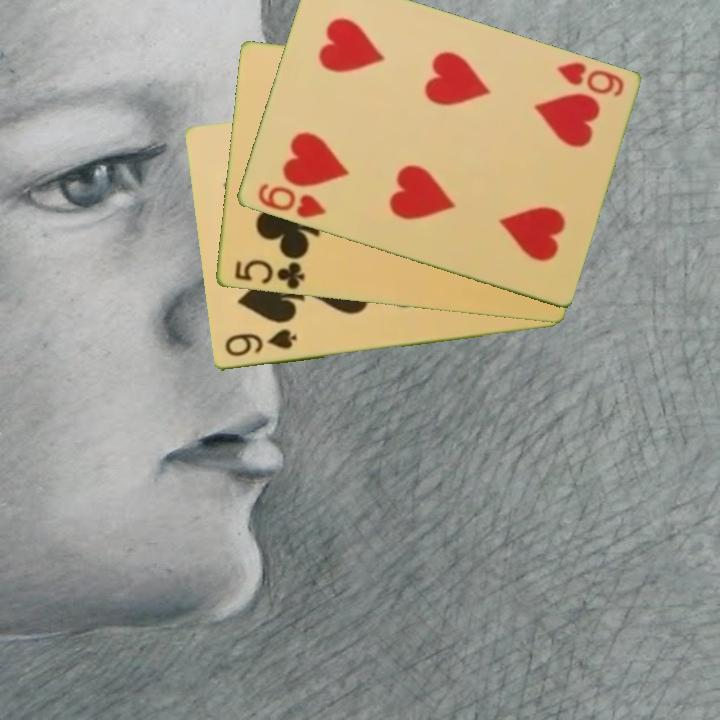5c: (230, 256, 307, 292)
6h: (253, 180, 328, 222), (553, 58, 627, 100)
9s: (221, 325, 300, 360)
